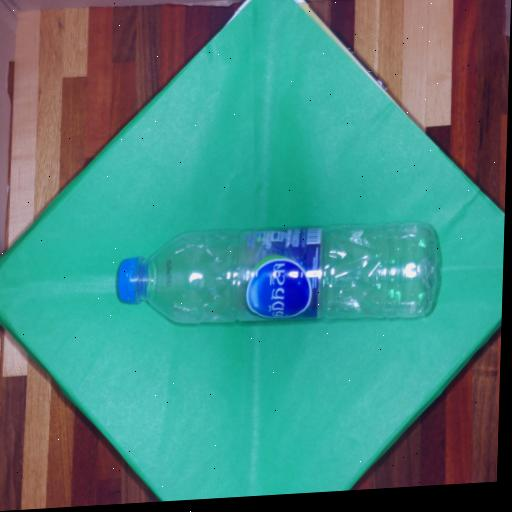bottle: (113, 214, 440, 337)
